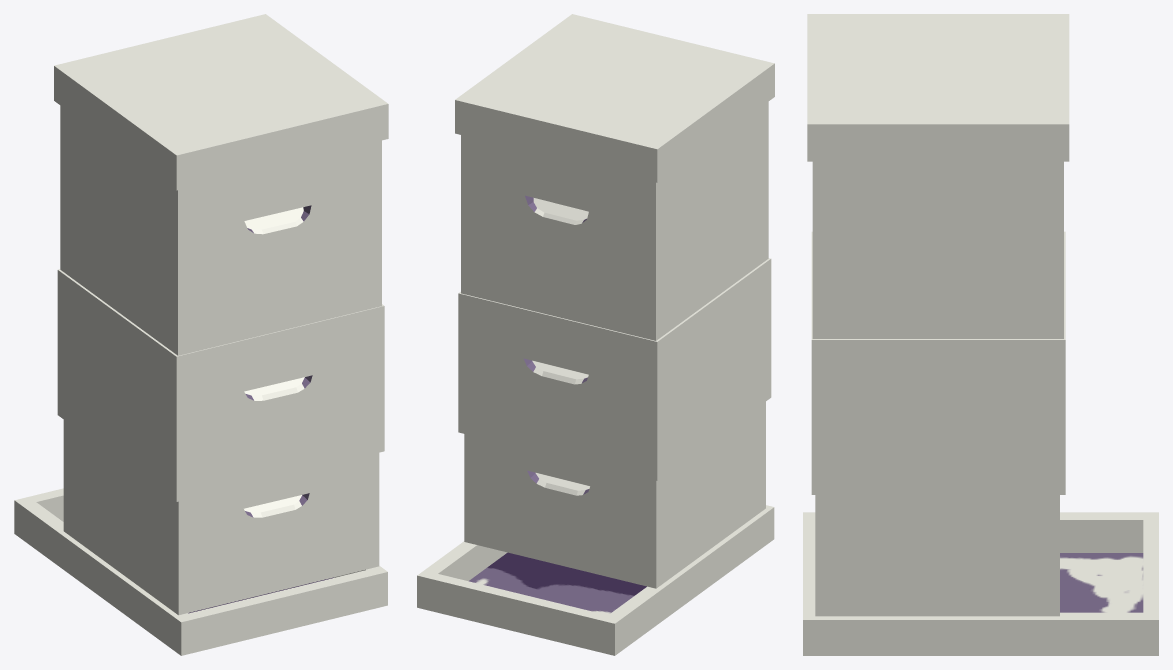
The model's file is beehive.fbx.
The picture shows the model from 3 angles, left to right: view 1: azimuth 30°, elevation 25°; view 2: azimuth 150°, elevation 25°; view 3: azimuth 270°, elevation 25°; orthographic projection. The views are drawn at different scales.
Parts seen in each view (by area): view 1: Cube.001; view 2: Cube.001; view 3: Cube.001.
Boxes of the visible parts, box(x1,y1,x2,y2) form: Cube.001: box(14, 14, 388, 655); Cube.001: box(417, 14, 774, 655); Cube.001: box(803, 14, 1158, 655).
Size of the model in its own units: 208 by 468 by 283.
